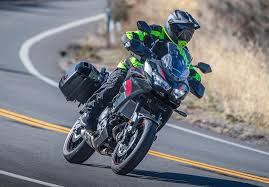motorcycle: (57, 20, 212, 175)
